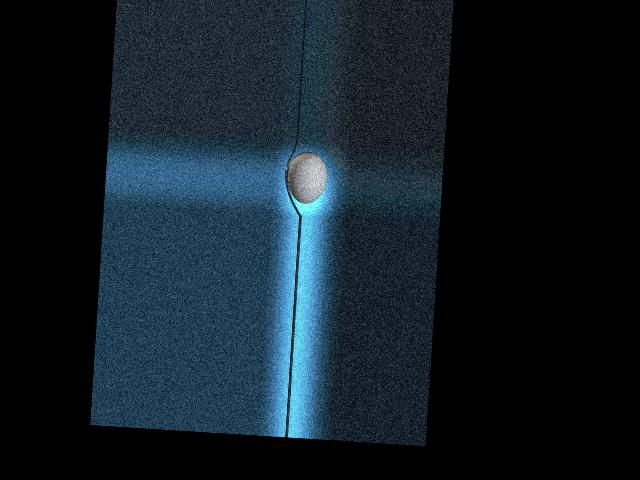egg: (285, 150, 327, 204)
